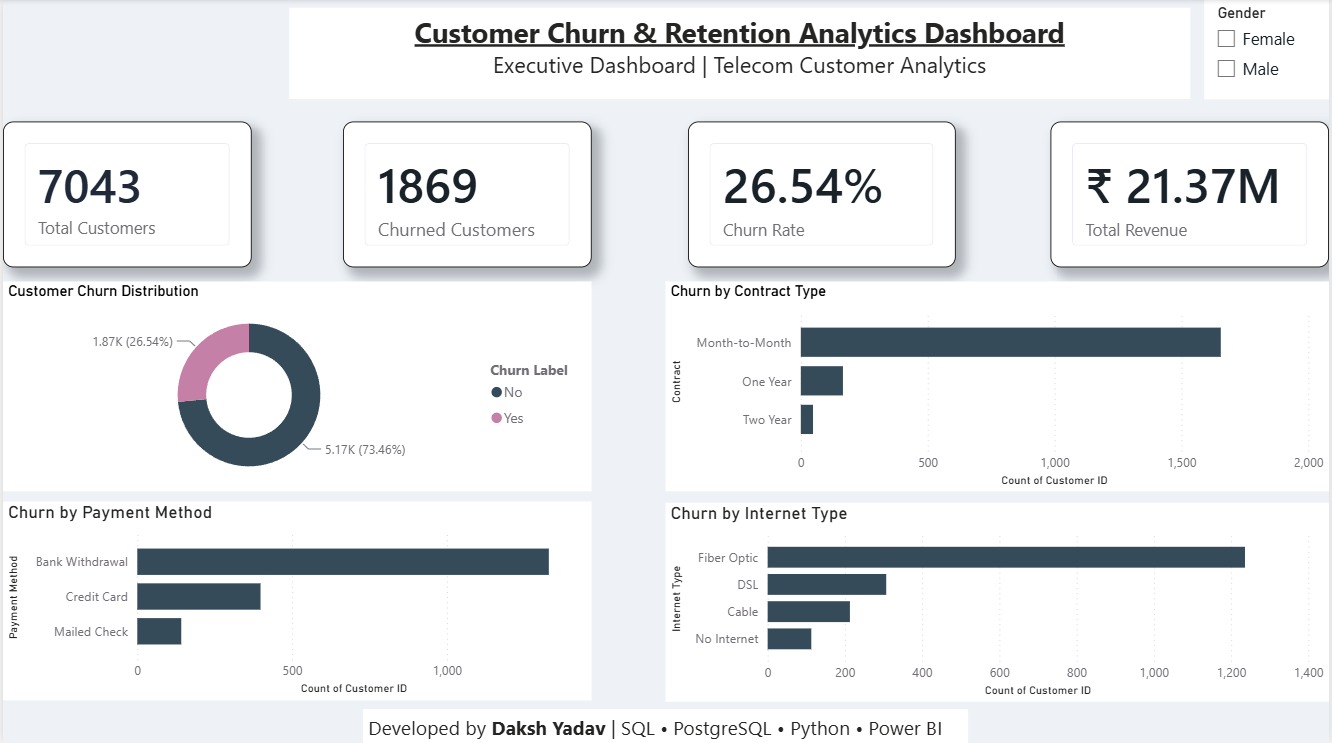

Layout of this report page (visuals, bound fields, positions):
{"tool":"powerbi","page":{"name":"Executive Dashboard","canvas":[1280,720],"ordinal":0},"visuals":[{"type":"cardVisual","fields":{"Data":["public customer_churn.Revenue"]},"box":[1011,118.2,269,141.2],"z":0},{"type":"cardVisual","fields":{"Data":["public customer_churn.Churn Rate"]},"box":[661.1,118.2,258.2,141.2],"z":1000},{"type":"cardVisual","fields":{"Data":["public customer_churn.Churned Customers"]},"box":[328.2,118.2,240.1,141.2],"z":2000},{"type":"cardVisual","title":"Total Customers","fields":{"Data":["public customer_churn.Total Customers"]},"box":[0,118.2,240.1,141.2],"z":3000},{"type":"textbox","box":[276.4,8.6,869.4,88],"z":4000},{"type":"donutChart","title":"Customer Churn Distribution","fields":{"Category":["public customer_churn.Churn Label"],"Y":["CountNonNull(public customer_churn.Customer ID)"]},"box":[0,272.7,568.2,202.7],"z":5000},{"type":"clusteredBarChart","title":"Churn by Contract Type","fields":{"Category":["public customer_churn.Contract"],"Y":["CountNonNull(public customer_churn.Customer ID)"]},"box":[639.4,272.7,640.6,202.7],"z":6000},{"type":"clusteredBarChart","title":"Churn by Payment Method","fields":{"Category":["public customer_churn.Payment Method"],"Y":["CountNonNull(public customer_churn.Customer ID)"]},"box":[0,485,568.2,191.8],"z":6001},{"type":"clusteredBarChart","title":"Churn by Internet Type","fields":{"Y":["CountNonNull(public customer_churn.Customer ID)"],"Category":["public customer_churn.Internet Type"]},"box":[639.4,486.2,640.6,191.8],"z":6002},{"type":"slicer","fields":{"Values":["public customer_churn.Gender"]},"box":[1159.4,0,120.6,96.5],"z":6003},{"type":"textbox","box":[348,685,583.9,35],"z":6004}]}

Visuals, with their boxes in screenshot pixels (x1, y1, x2, y2), scaled from the page's 1280x720 canvas onto the 1332x743 screenshot:
cardVisual - public customer_churn.Revenue: l=1052, t=122, r=1331, b=268
cardVisual - public customer_churn.Churn Rate: l=688, t=122, r=957, b=268
cardVisual - public customer_churn.Churned Customers: l=342, t=122, r=591, b=268
"Total Customers" cardVisual: l=0, t=122, r=250, b=268
textbox: l=288, t=9, r=1192, b=100
"Customer Churn Distribution" donutChart: l=0, t=281, r=591, b=491
"Churn by Contract Type" clusteredBarChart: l=665, t=281, r=1331, b=491
"Churn by Payment Method" clusteredBarChart: l=0, t=500, r=591, b=698
"Churn by Internet Type" clusteredBarChart: l=665, t=502, r=1331, b=700
slicer - public customer_churn.Gender: l=1207, t=0, r=1331, b=100
textbox: l=362, t=707, r=970, b=742
